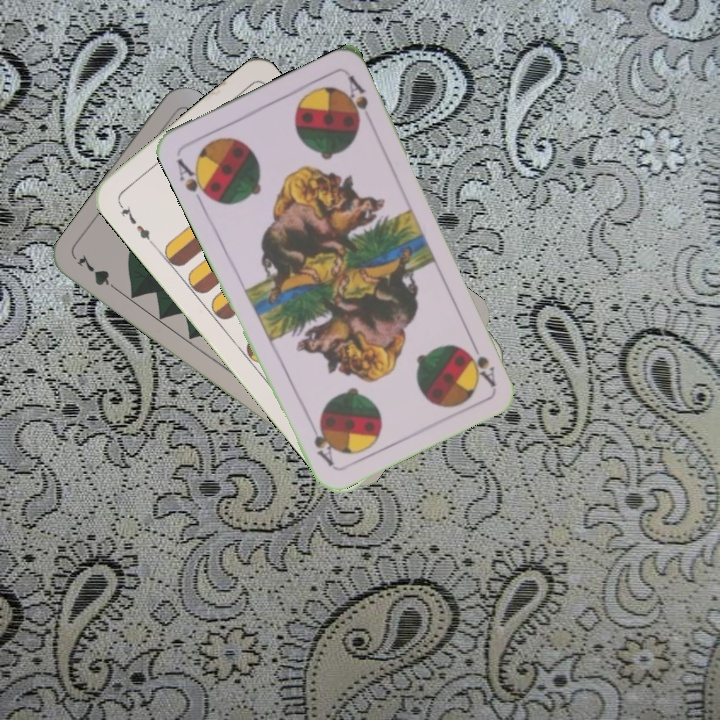E7: (114, 198, 157, 248)
G7: (72, 251, 124, 296)
SA: (173, 154, 215, 208), (465, 334, 499, 389)
